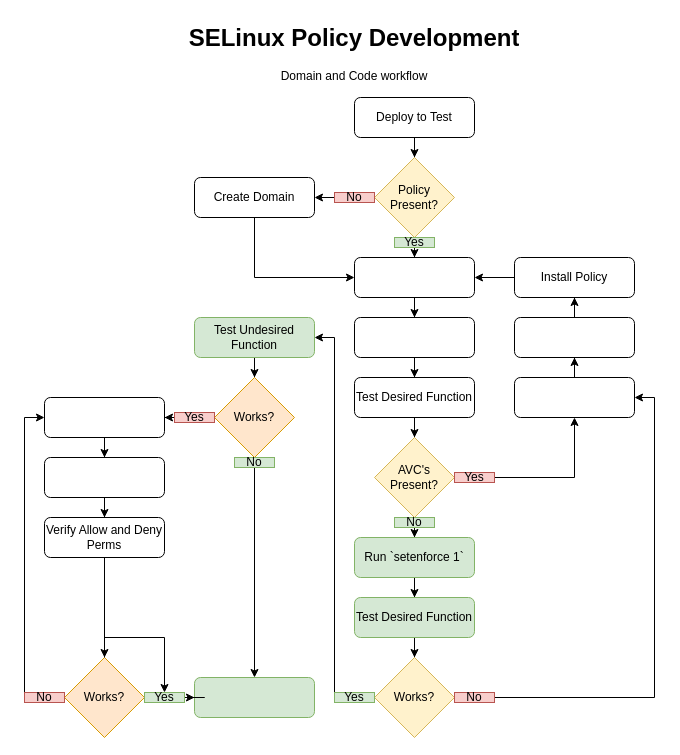
This 680x755 diagram has some shape labels left out. Here are the shapes that lost their labels. From the top down, the centre of each, then its label:
At point 414,277: "Clear Audit Logs".
At point 414,337: "Run `setenforce 0`".
At point 574,337: "Build/Modify Policy".
At point 104,417: "Evaluate Permissions in 'apol'".
At point 574,397: "Extract and Process AVC information".
At point 104,477: "Remove Allow and/or Add Deny".
At point 254,697: "Publish Policy".
